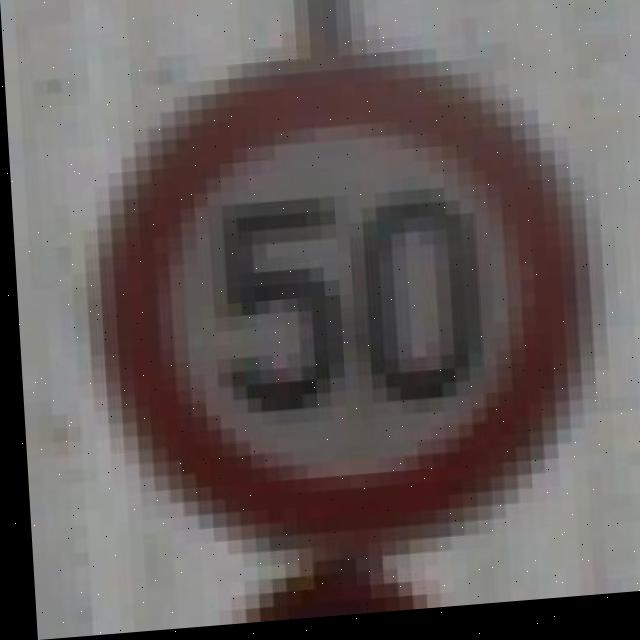Speed limit 50: (76, 46, 601, 561)
